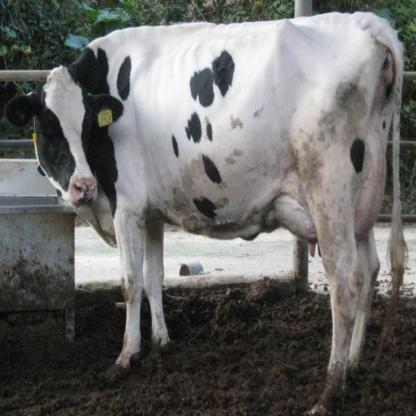cow: (31, 16, 401, 416)
